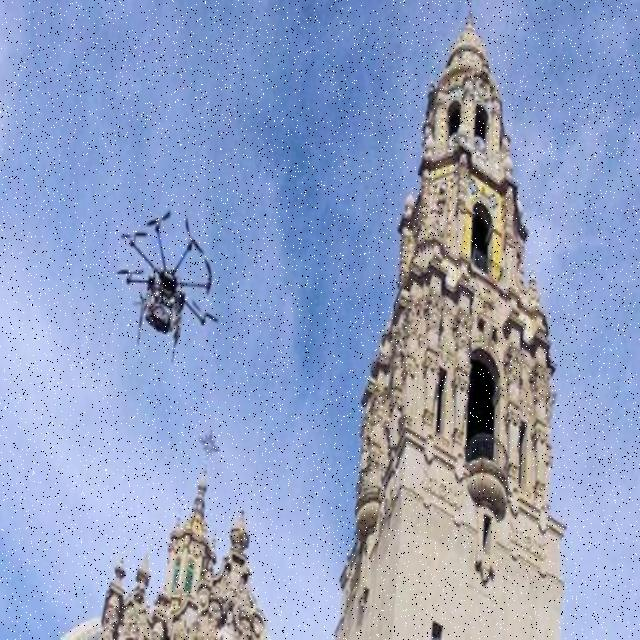UAV: (120, 210, 213, 360)
